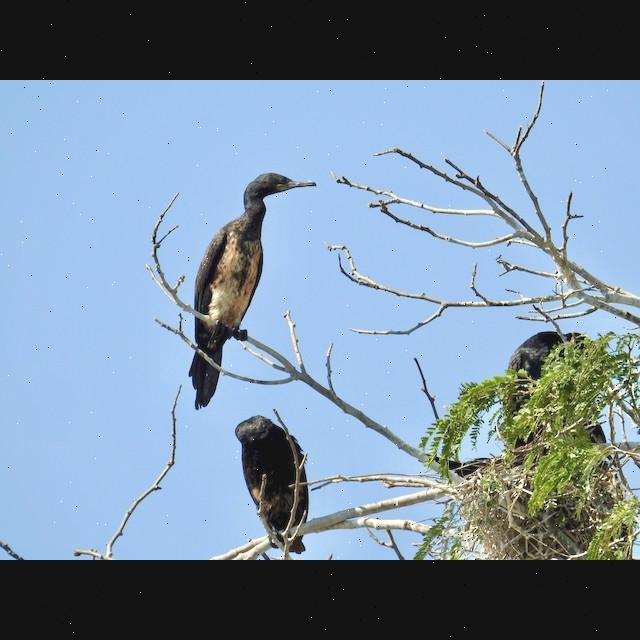cormorant: (168, 165, 318, 413), (225, 416, 318, 550)
